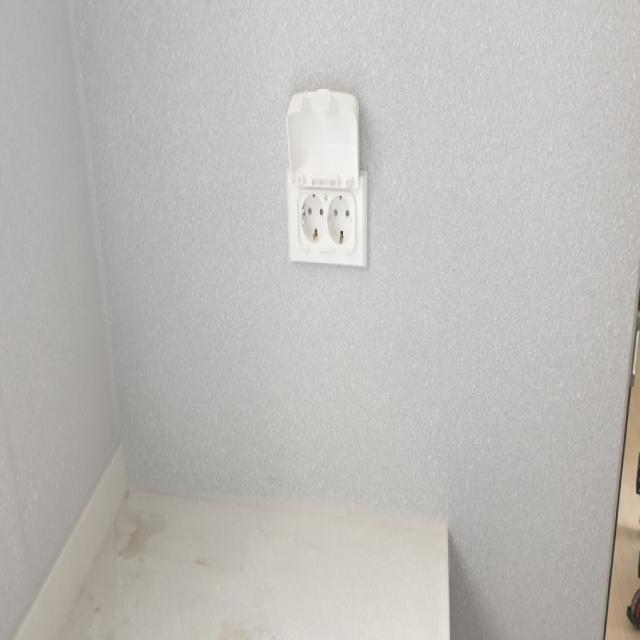typeb: (246, 72, 426, 307)
